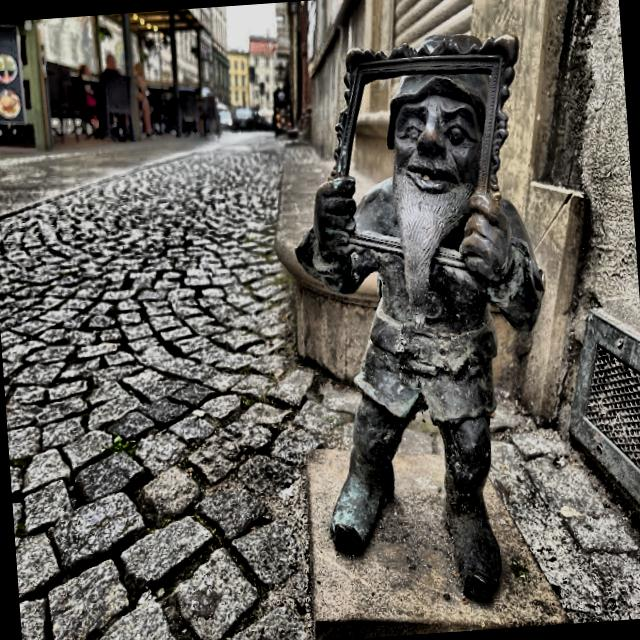Galeriusz: (296, 36, 543, 601)
